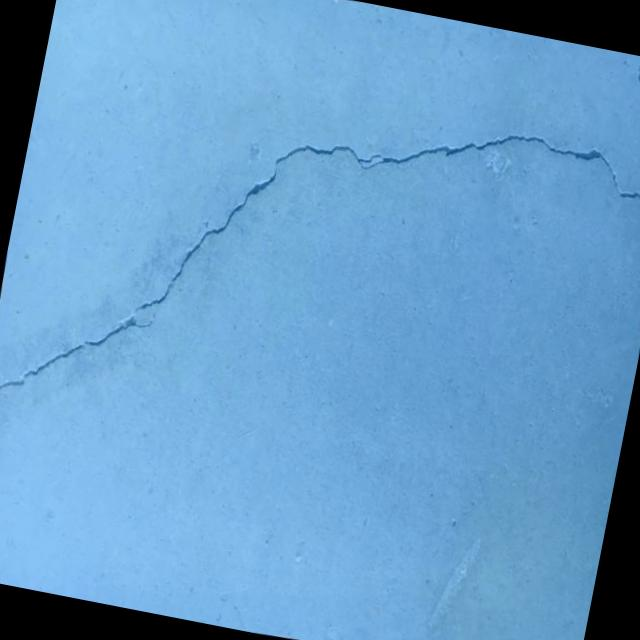crack: (125, 63, 630, 400), (0, 282, 163, 464), (615, 187, 640, 219)
